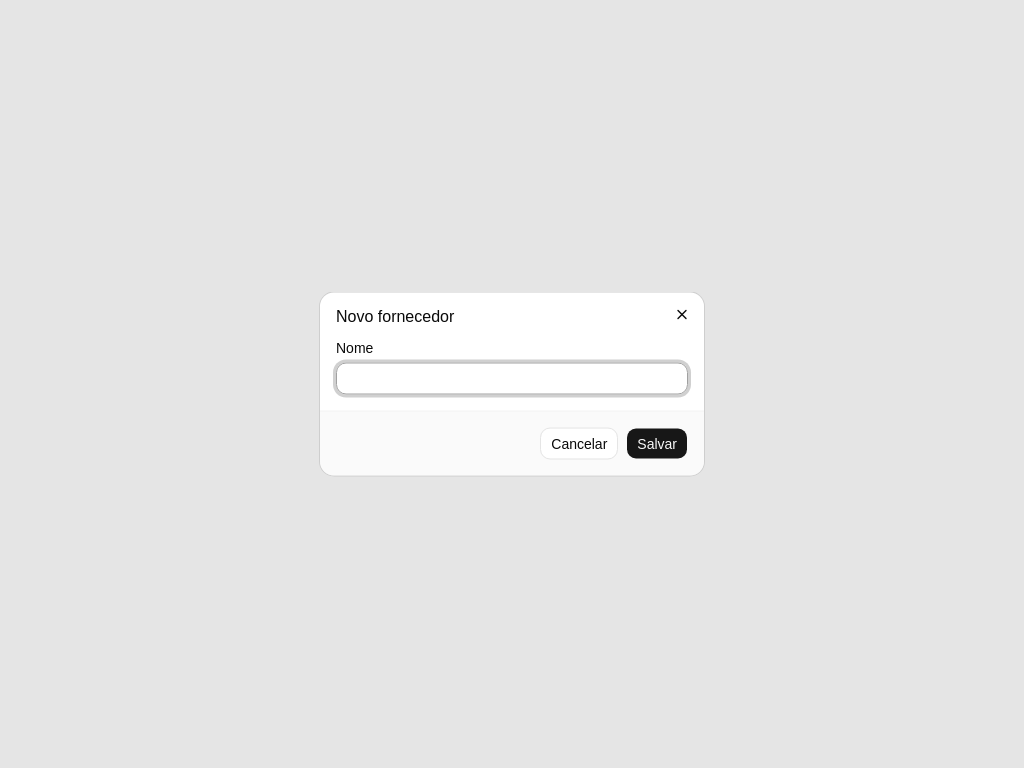
it: SupplierDialog › refuses a supplier with no name
Click the button "Salvar" at (657, 444), box [626,428,688,460]
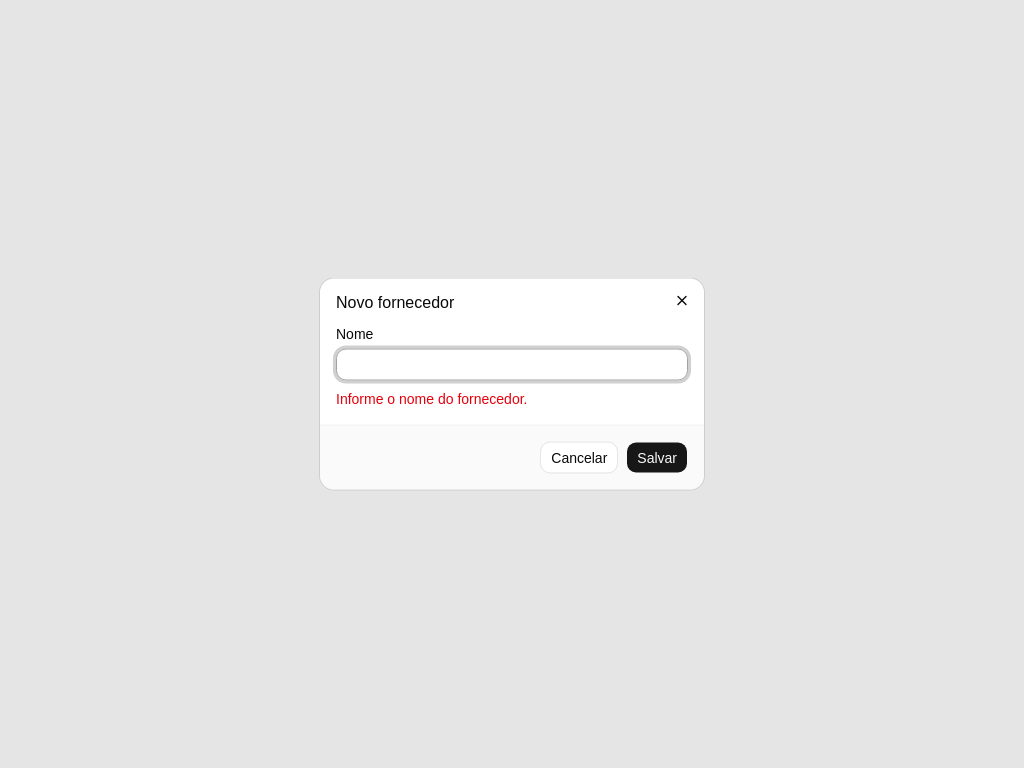
Now the text "Informe o nome do fornecedor." is shown, box [336,390,528,406]
